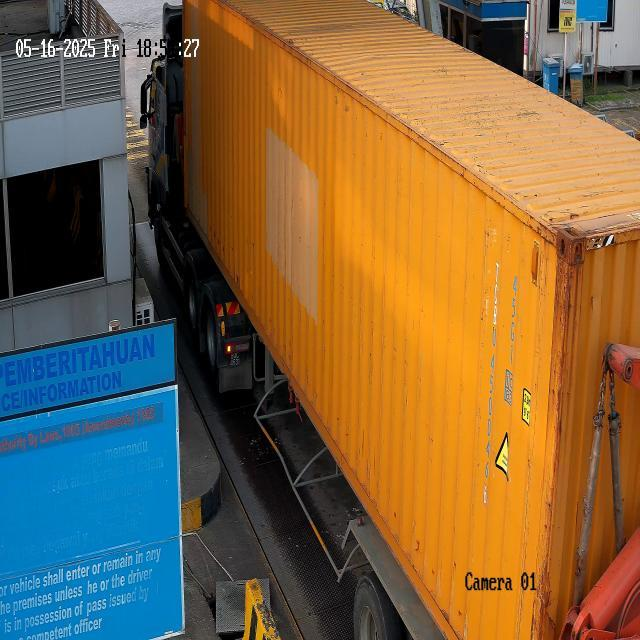ISO: (506, 266, 521, 380)
container_number: (475, 255, 505, 510)
